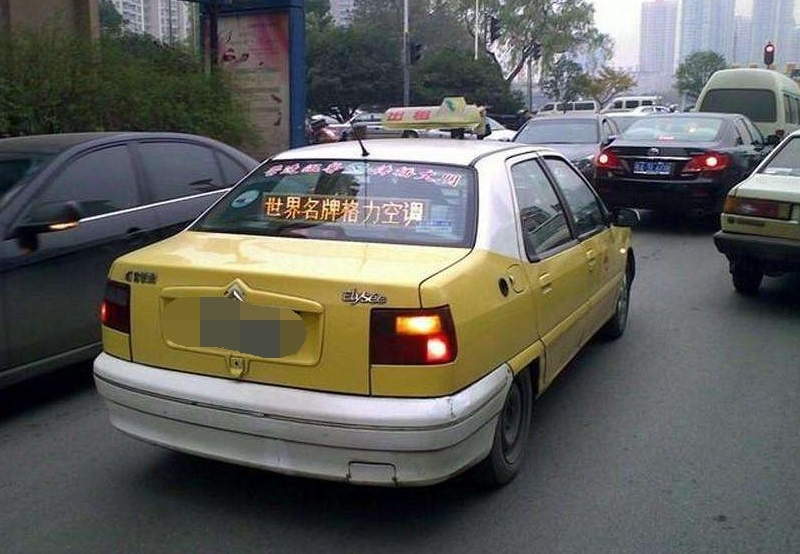family sedan: (611, 104, 755, 219)
taxi: (95, 121, 649, 485)
